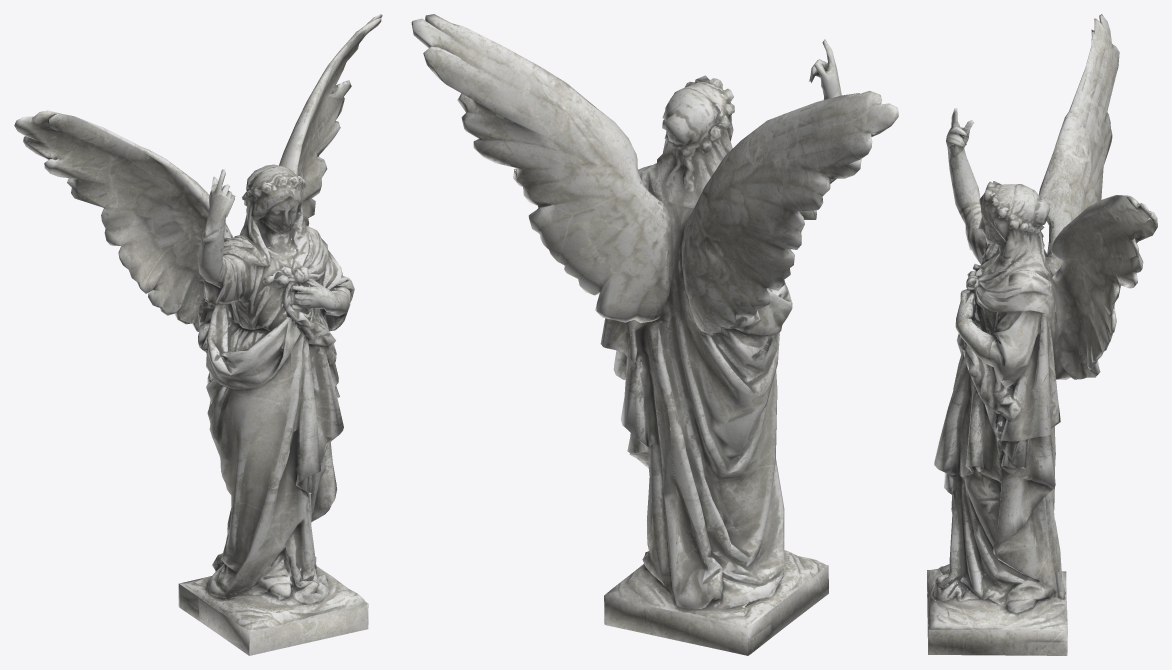
File: statue_angel.glb
The picture shows the model from 3 angles, left to right: view 1: azimuth 30°, elevation 25°; view 2: azimuth 150°, elevation 25°; view 3: azimuth 270°, elevation 25°; orthographic projection. The views are drawn at different scales.
Parts seen in each view (by area): view 1: SilverAngel_LP_Unwrap#1_0; view 2: SilverAngel_LP_Unwrap#1_0; view 3: SilverAngel_LP_Unwrap#1_0.
Part boxes in pixels (<box>): SilverAngel_LP_Unwrap#1_0: <box>14,14,382,655</box>; SilverAngel_LP_Unwrap#1_0: <box>411,14,898,655</box>; SilverAngel_LP_Unwrap#1_0: <box>927,14,1157,655</box>.
Bounding box in the file's own units: 6.78 × 8.61 × 3.47.
Materials: 1 (1 with a texture image).
